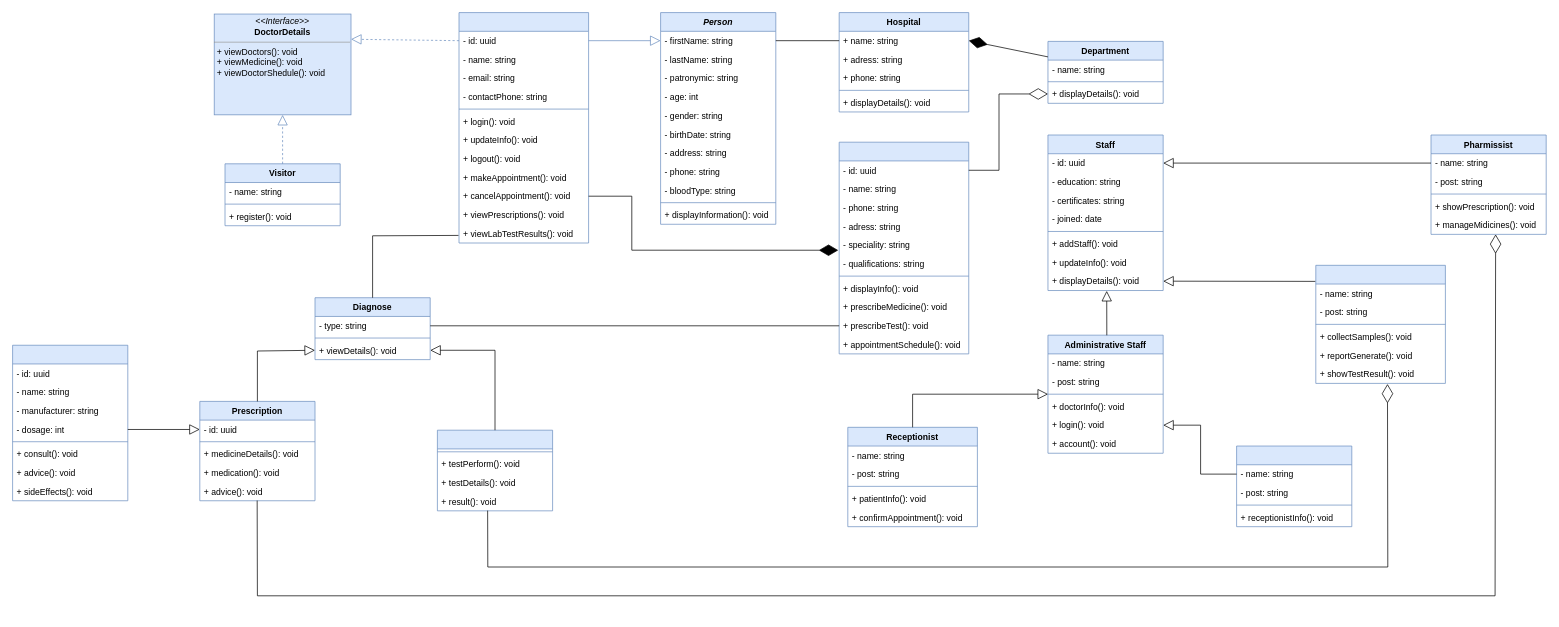
The diagram is 1559 pixels wide and 627 high, and some of its shapes have lost their labels. Each missing label, with the box of its shape:
Admins: (1236, 445, 1352, 527)
Doctor: (838, 141, 969, 354)
Laboratory assistant: (1315, 265, 1445, 383)
Laboratory Test: (437, 429, 553, 511)
Medicine: (12, 345, 128, 501)
Patient: (458, 12, 589, 243)
